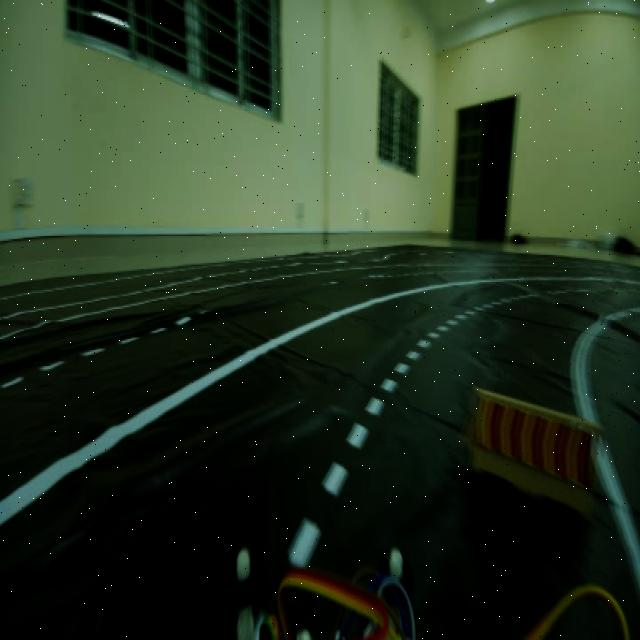roadblock: (467, 373, 600, 520)
